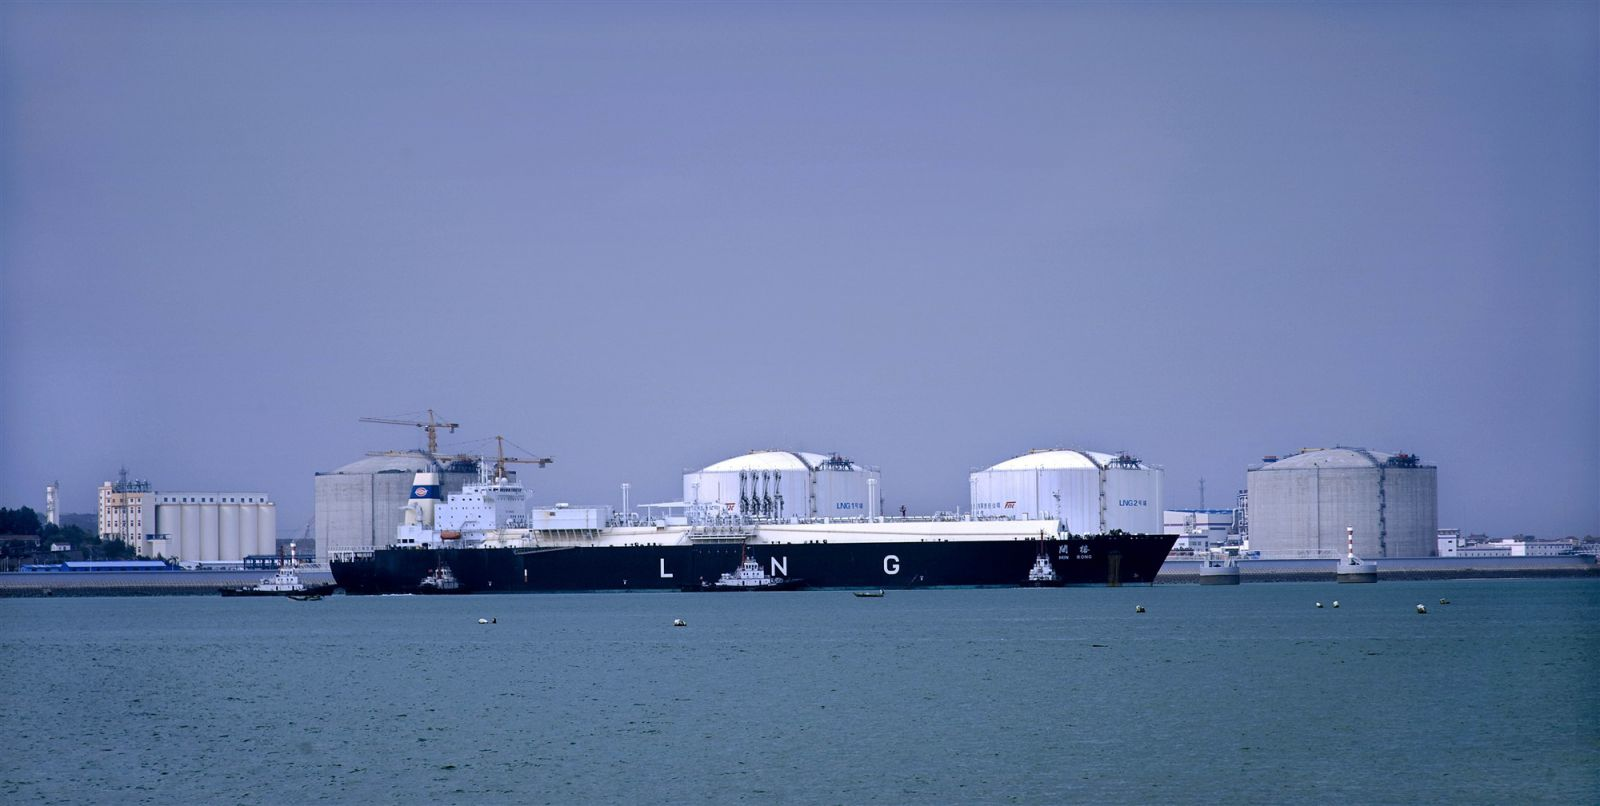Cargoship: (333, 411, 1173, 620)
otherboat: (227, 549, 339, 609), (691, 551, 801, 594), (1183, 533, 1246, 599), (1002, 552, 1069, 595), (410, 561, 462, 599)
